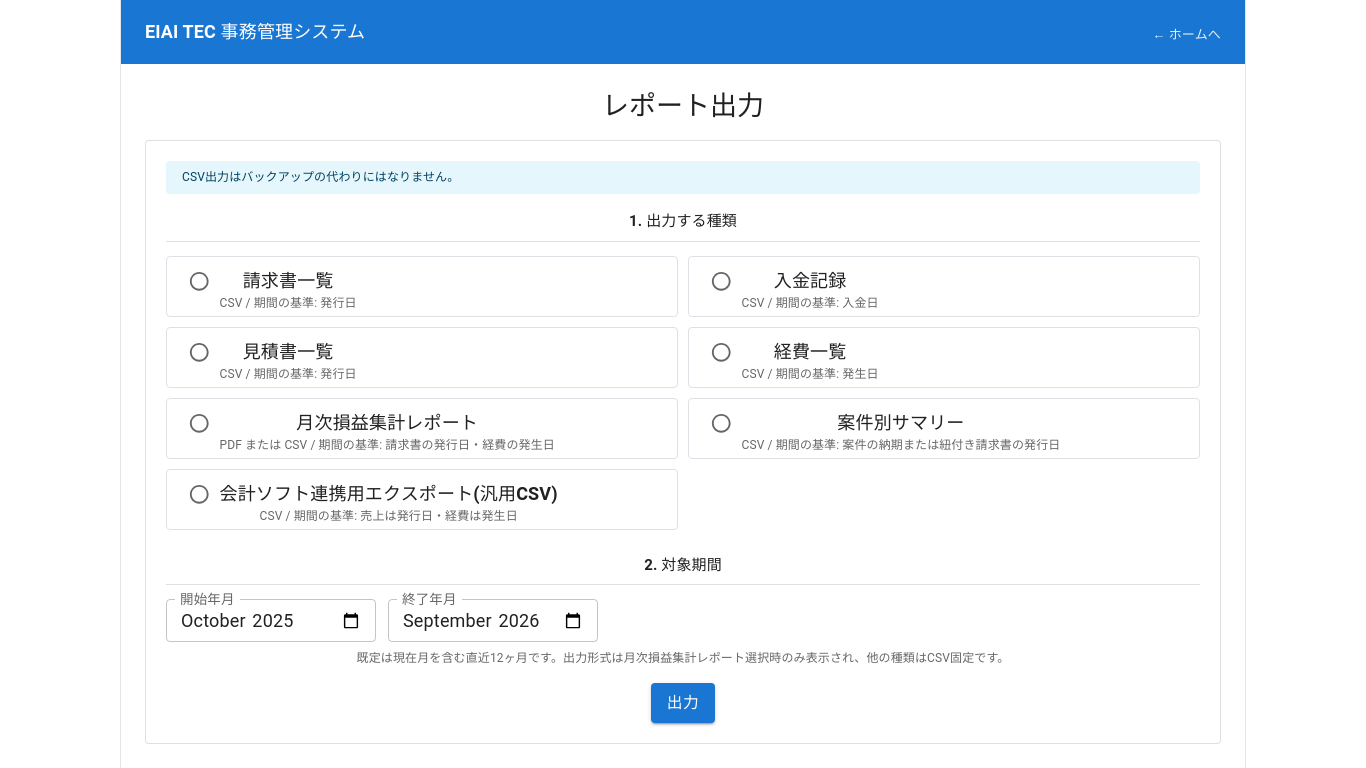
Test: ReportExportPage (SC-18) › 件数0のときは項目名のみ出力した旨を表示する
What coordinates should you click on to do the following:
click the radio button labelled "経費一覧 CSV / 期間の基準: 発生日"
I would click on:
 (794, 361)
Its box is [710, 341, 879, 381].
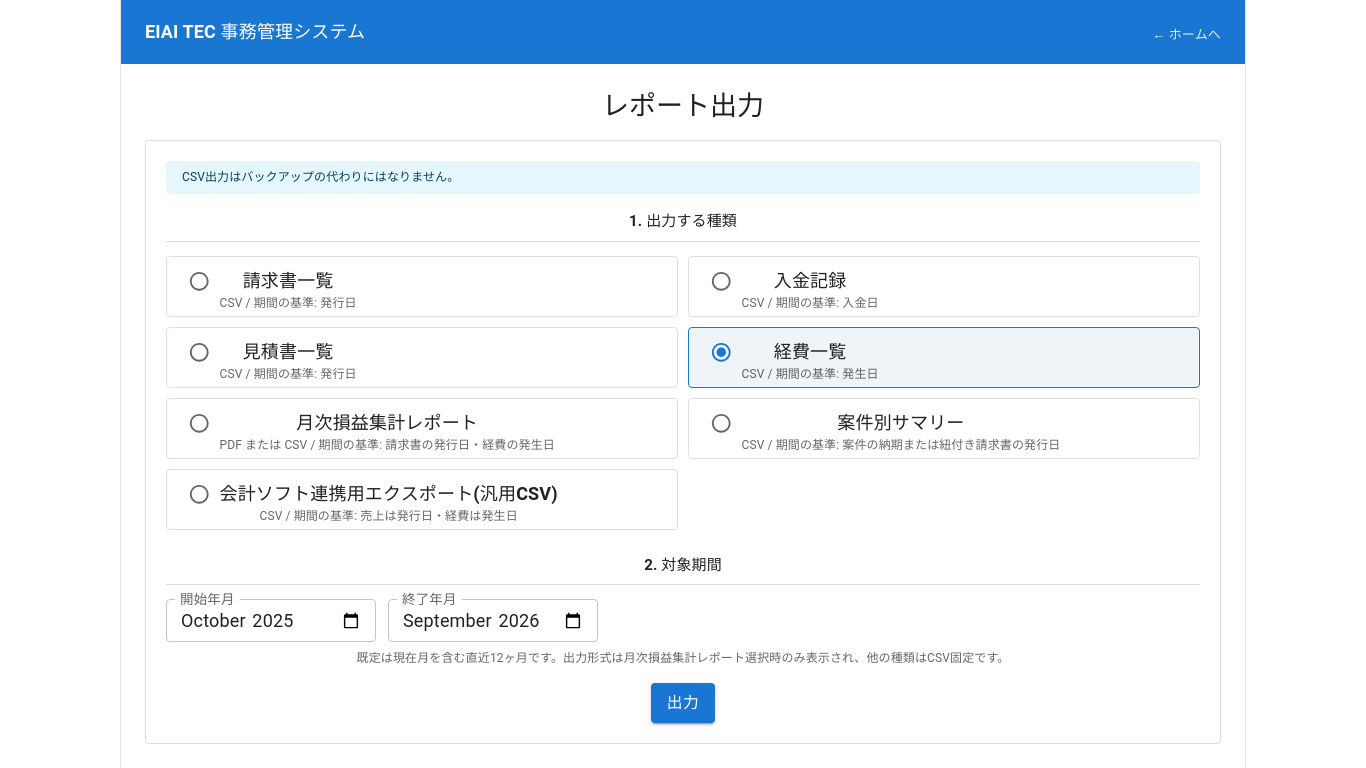
What coordinates should you click on to do the following:
click the button "出力"
I would click on:
 (683, 703)
Its box is [651, 683, 715, 723].
(page scrolled)
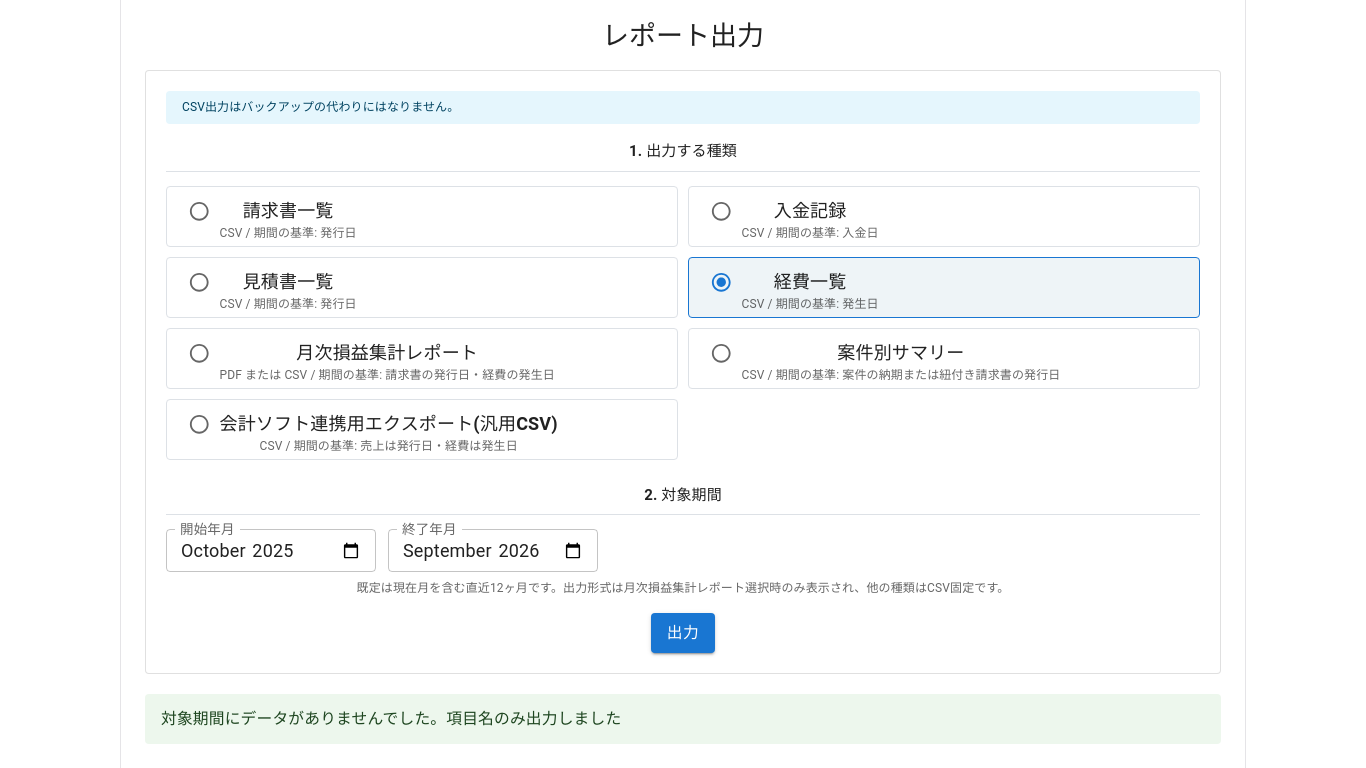
Now the text "対象期間にデータがありませんでした。項目名のみ出力しました" is shown, box [161, 709, 621, 728]
